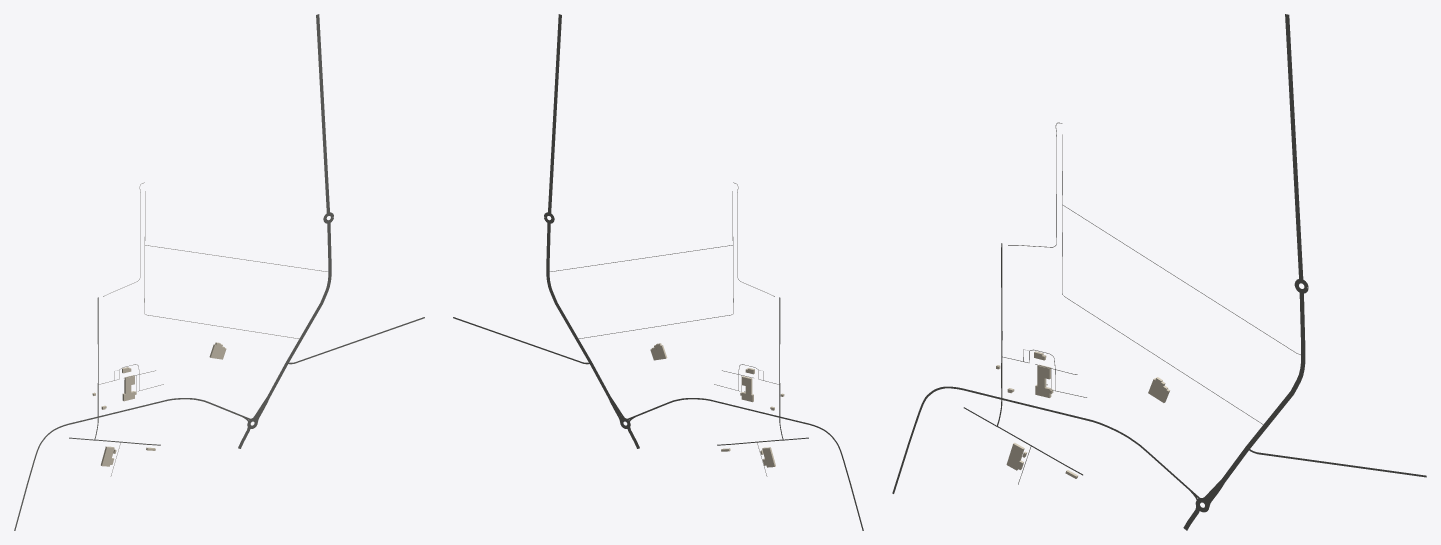
File: historic-palestine-11_31_3531_3252.glb
3 views of the same model, side by side, from view 1: azimuth 30°, elevation 25°; view 2: azimuth 150°, elevation 25°; view 3: azimuth 330°, elevation 25° (orthographic). The views are drawn at different scales.
Visible parts, largest first — view 1: Road 60, Road 60.001, Road; view 2: Road 60, Road 60.001, Road; view 3: Road 60, Road 60.001, Road.
Part boxes in pixels (x1,y1,x2,y2): Road 60: [316, 14, 329, 213]; Road 60.001: [267, 222, 331, 397]; Road: [14, 398, 241, 530]; Road 60: [548, 14, 561, 214]; Road 60.001: [546, 223, 610, 397]; Road: [636, 398, 863, 530]; Road 60: [1285, 14, 1303, 279]; Road 60.001: [1221, 291, 1305, 482]; Road: [892, 386, 1188, 493].
Bounding box in the file's own units: 1497 × 1542 × 8.7.
